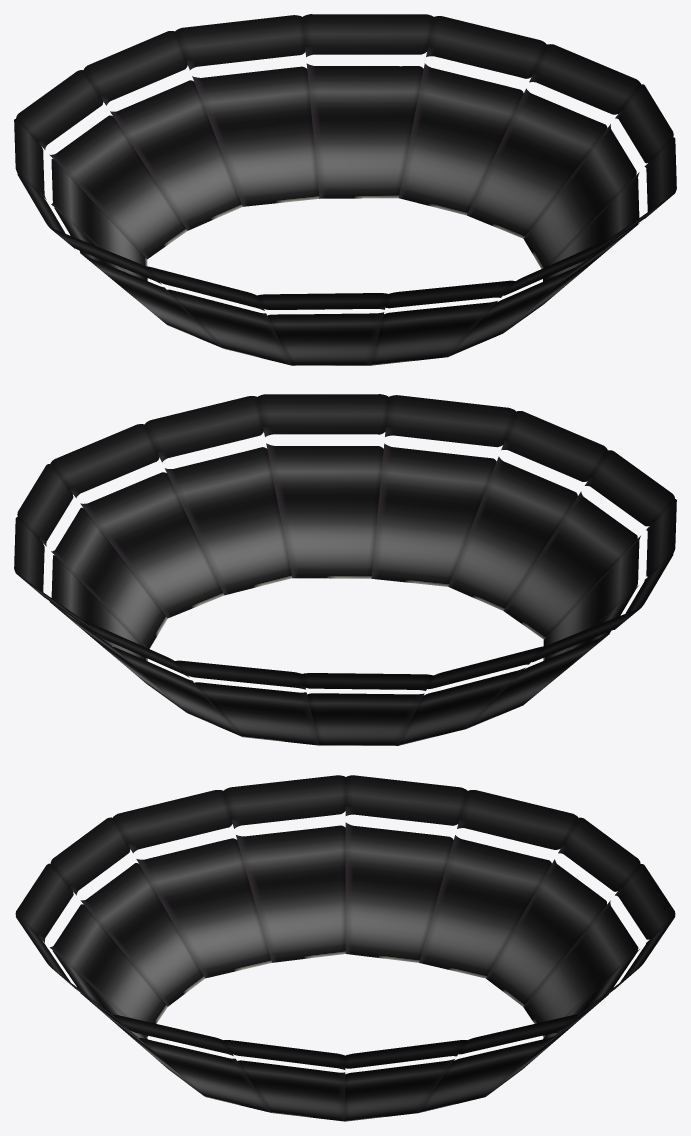
3 renders of one model, top to bottom at view 1: azimuth 30°, elevation 25°; view 2: azimuth 150°, elevation 25°; view 3: azimuth 270°, elevation 25°, orthographic. The views are drawn at different scales.
Visible parts, largest first — view 1: T1L6M004_16; view 2: T1L6M004_16; view 3: T1L6M004_16.
Part boxes in pixels (bbox=[...]): T1L6M004_16: bbox=[14, 14, 676, 365]; T1L6M004_16: bbox=[14, 394, 676, 745]; T1L6M004_16: bbox=[15, 775, 675, 1121].
Size of the model in its own units: 2.87 by 0.5947 by 2.87.
